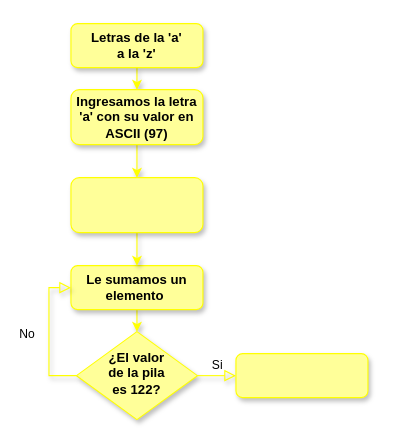
The diagram is 394 pixels wide and 447 high, and some of its shapes have lost their labels. Each missing label, with the centre of its shape:
Fin etiqueta: (x=302, y=376)
Hacemos una etiqueta con el código dentro: (x=137, y=206)
